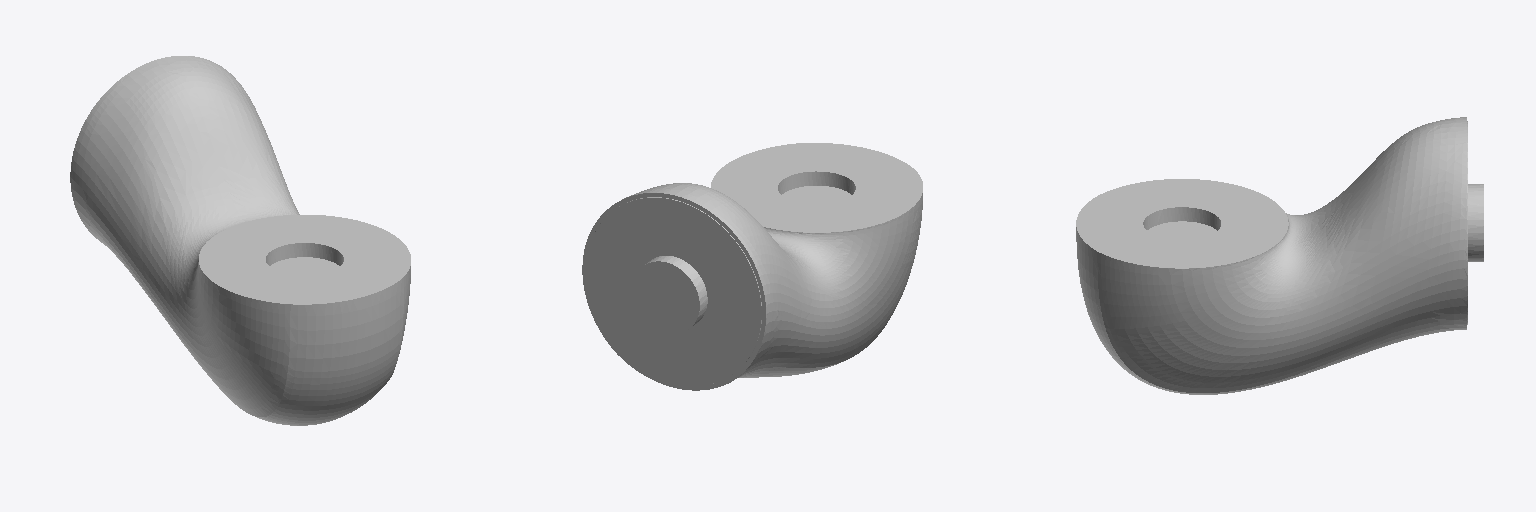
The model's file is link_1_vis.obj.
3 renders of one model, left to right at view 1: azimuth 30°, elevation 25°; view 2: azimuth 150°, elevation 25°; view 3: azimuth 270°, elevation 25°, orthographic.
Visible parts, largest first — view 1: Link_1_Vis; view 2: Link_1_Vis; view 3: Link_1_Vis.
Part boxes in pixels (bbox=[...]): Link_1_Vis: bbox=[70, 56, 410, 425]; Link_1_Vis: bbox=[582, 143, 922, 390]; Link_1_Vis: bbox=[1076, 117, 1483, 394].
Size of the model in its own units: 0.136 by 0.1826 by 0.261.